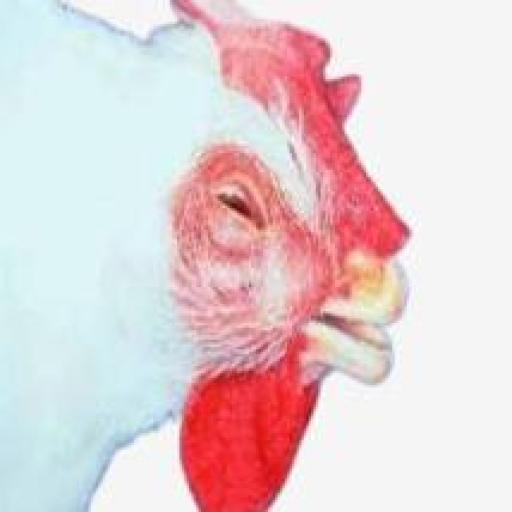disease: (162, 131, 308, 250)
